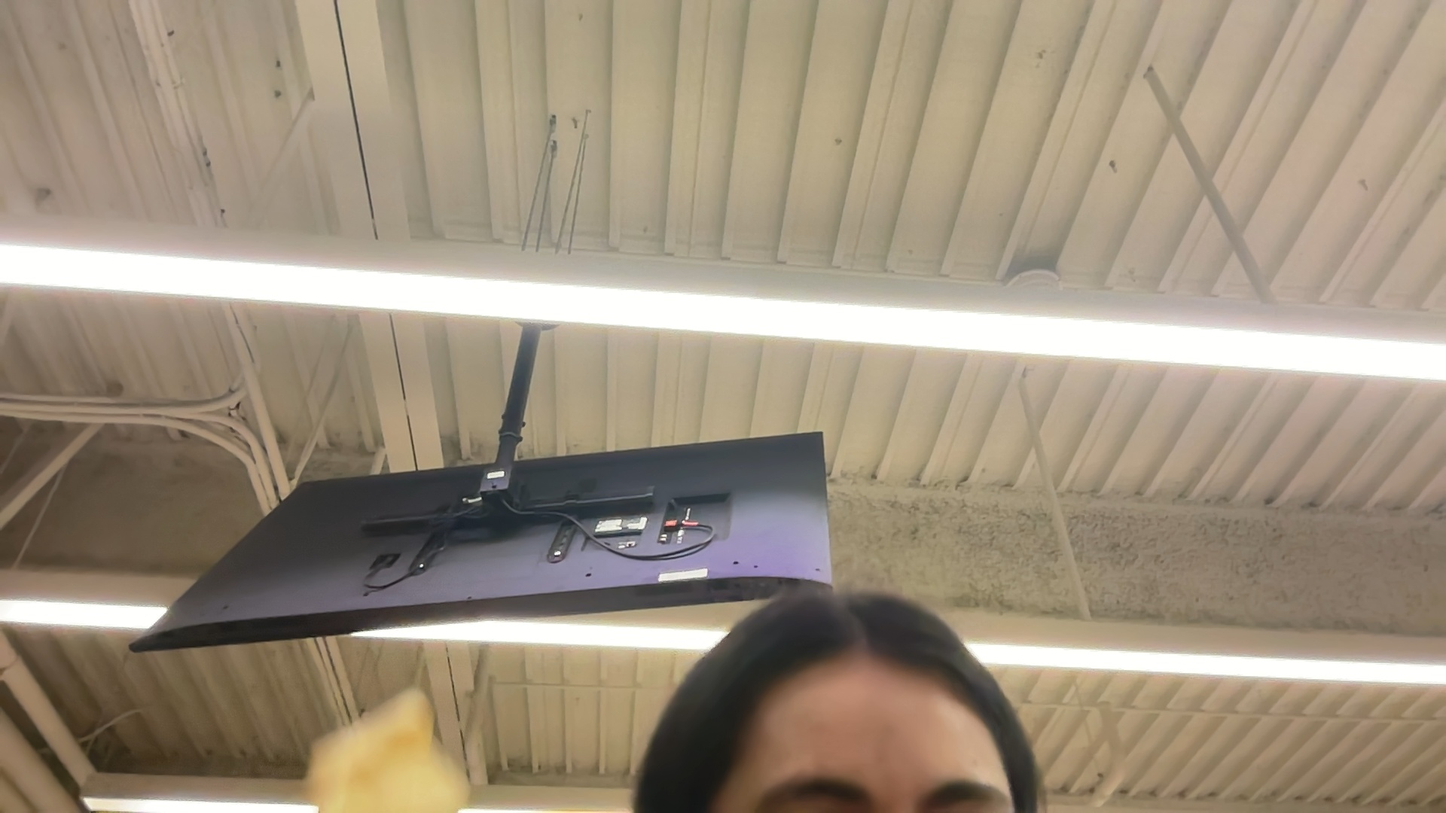Plastic: (707, 641, 1003, 812)
